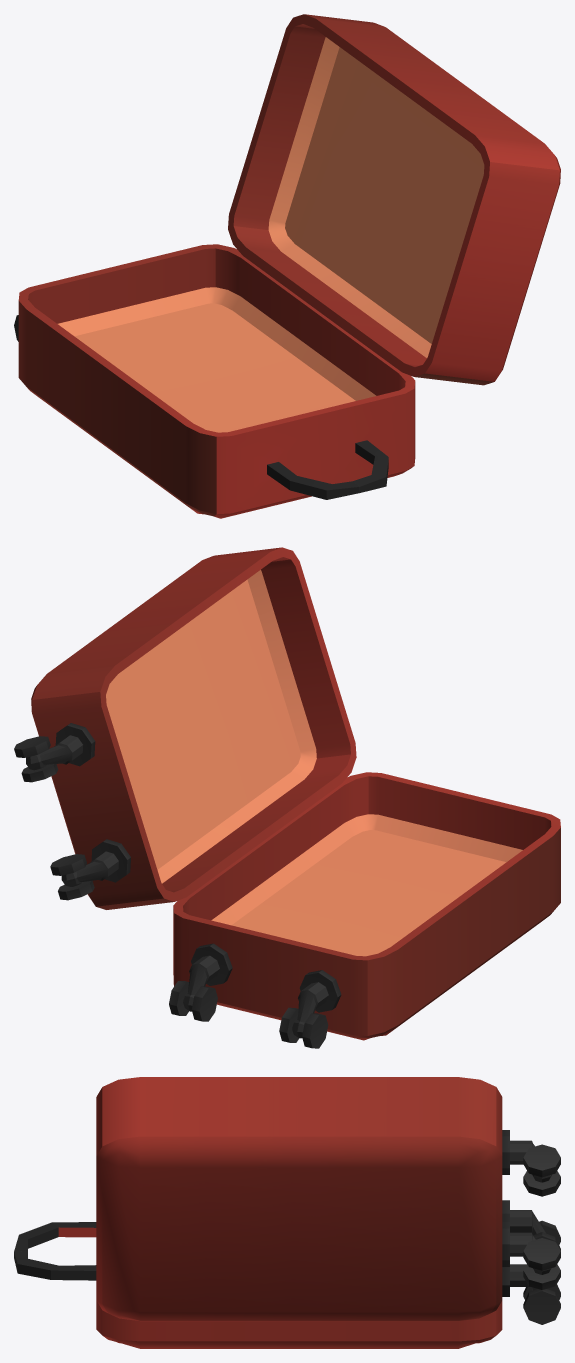
The model's file is suitcase_formushroomstash.fbx.
The picture shows the model from 3 angles, top to bottom: view 1: azimuth 30°, elevation 25°; view 2: azimuth 150°, elevation 25°; view 3: azimuth 270°, elevation 25°; orthographic projection. The views are drawn at different scales.
Parts seen in each view (by area): view 1: Cube.001, Cube; view 2: Cube.001, Cube, Quadsphere, Quadsphere.001; view 3: Cube.001, Cube, Quadsphere.001, Quadsphere.
Part boxes in pixels (x1,y1,x2,y2): Cube.001: [228, 14, 560, 385]; Cube: [18, 244, 415, 518]; Cube.001: [31, 547, 356, 909]; Cube: [173, 772, 560, 1040]; Quadsphere: [169, 943, 341, 1048]; Quadsphere.001: [14, 723, 130, 900]; Cube.001: [96, 1077, 502, 1321]; Cube: [14, 1222, 502, 1348]; Quadsphere.001: [502, 1130, 560, 1289]; Quadsphere: [502, 1200, 560, 1324].
Bounding box in the file's own units: 453 × 368 × 584.
1 material, 1 textured.
